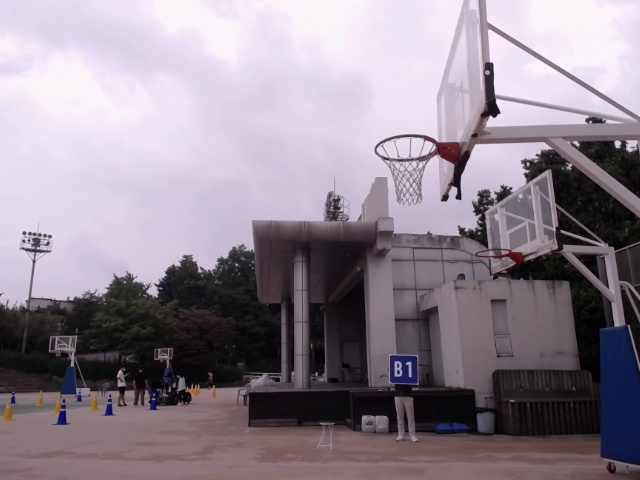delivery_b1: (389, 354, 419, 384)
